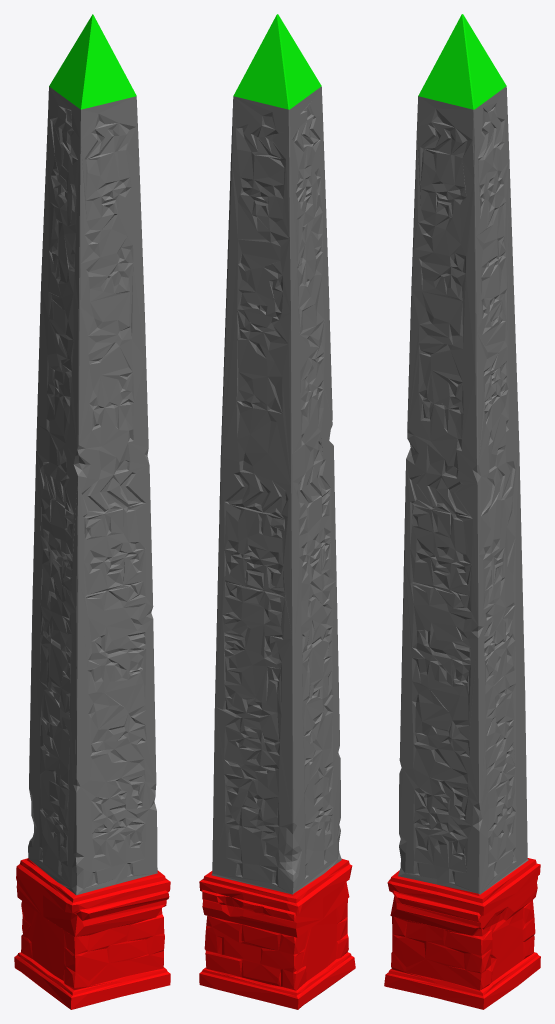
Rendered from PillarObelisk02.fbx.
3 views of the same model, side by side, from view 1: azimuth 30°, elevation 25°; view 2: azimuth 150°, elevation 25°; view 3: azimuth 330°, elevation 25° (orthographic).
Visible parts, largest first — view 1: PillarObelisk02; view 2: PillarObelisk02; view 3: PillarObelisk02.
Part boxes in pixels (box(x1,y1,x2,y2)): PillarObelisk02: box(14, 14, 170, 1009); PillarObelisk02: box(199, 14, 355, 1009); PillarObelisk02: box(384, 14, 540, 1009).
Size of the model in its own units: 258 by 2382 by 273.
